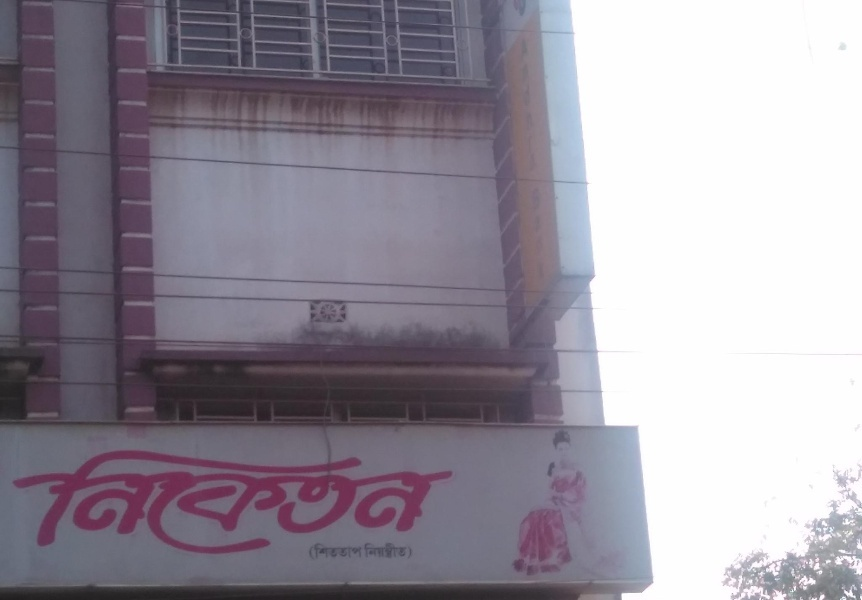text: (17, 436, 32, 558), (33, 436, 48, 558), (49, 436, 64, 558), (65, 436, 80, 558), (81, 436, 96, 558), (97, 436, 112, 558), (113, 436, 128, 558), (129, 436, 144, 558), (145, 436, 160, 558), (161, 436, 176, 558), (177, 436, 192, 558), (193, 436, 208, 558), (209, 436, 224, 558), (225, 436, 240, 558), (241, 436, 256, 558), (257, 436, 272, 558), (273, 436, 288, 558), (289, 436, 304, 558), (305, 436, 320, 558), (321, 436, 336, 558), (337, 436, 352, 558), (353, 436, 368, 558), (369, 436, 384, 558), (385, 436, 400, 558), (401, 436, 416, 558), (417, 436, 432, 558), (433, 436, 448, 558), (449, 436, 464, 558), (321, 542, 336, 562), (337, 542, 352, 562), (353, 542, 368, 562), (369, 542, 384, 562), (385, 542, 400, 562), (401, 542, 412, 562), (312, 542, 320, 562), (15, 436, 16, 558), (465, 436, 466, 558)
